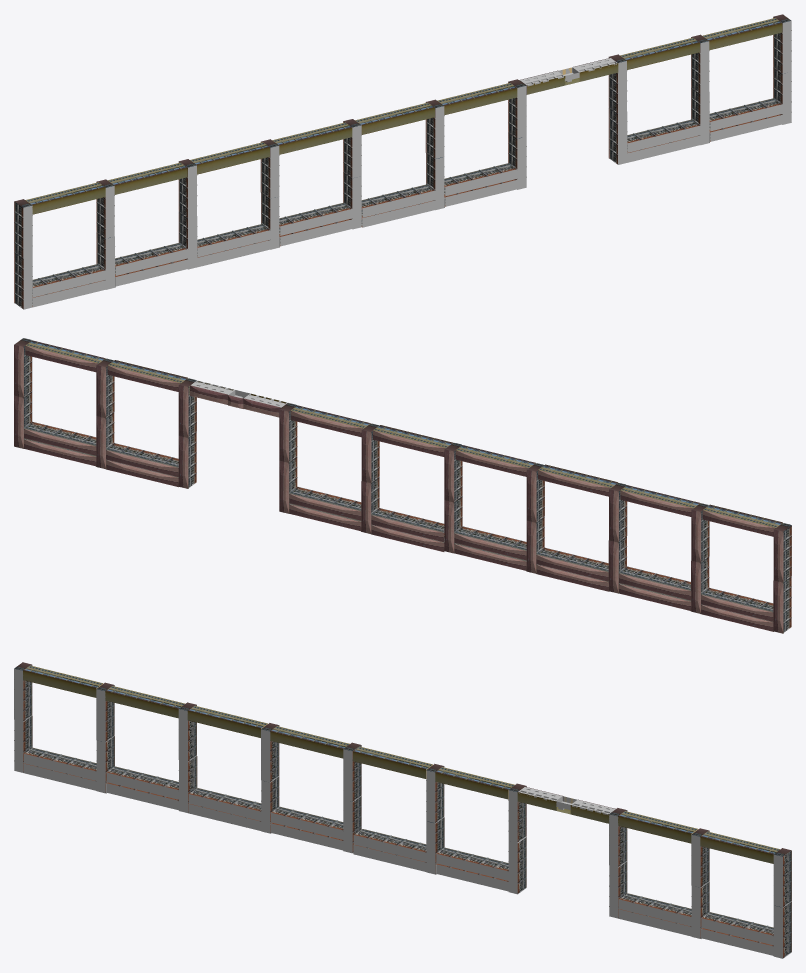
The picture shows the model from 3 angles, top to bottom: view 1: azimuth 30°, elevation 25°; view 2: azimuth 150°, elevation 25°; view 3: azimuth 330°, elevation 25°; orthographic projection.
Visible parts, largest first — view 1: Plane, 1.bina zemin.018, sarı bina zemin.026, 1.bina zemin.014, 1.bina zemin.021, 1.bina zemin.017, 1.bina zemin.020, 1.bina zemin.026, 1.bina zemin.010, 1.bina zemin.011, 1.bina zemin.028, 1.bina zemin.013 (+29 smaller); view 2: çatı sarı bina.016, çatı sarı bina.024, çatı sarı bina.025, çatı sarı bina.017, çatı sarı bina.018, çatı sarı bina.030, çatı sarı bina.031, çatı sarı bina.040, çatı sarı bina.022, çatı sarı bina.023, çatı sarı bina.015, çatı sarı bina.028 (+46 smaller); view 3: Plane, sarı bina zemin.026, 1.bina zemin.011, sarı bina zemin.021, sarı bina zemin.004, 1.bina zemin.010, 1.bina zemin.014, 1.bina zemin.018, 1.bina zemin.025, 1.bina zemin.028, 1.bina zemin.039, 1.bina zemin.013 (+29 smaller).
Part boxes in pixels (x1=…): Plane: x1=520, y1=58, x2=617, y2=86; 1.bina zemin.018: x1=362, y1=200, x2=435, y2=227; sarı bina zemin.026: x1=32, y1=187, x2=105, y2=214; 1.bina zemin.014: x1=710, y1=104, x2=783, y2=131; 1.bina zemin.021: x1=445, y1=169, x2=518, y2=196; 1.bina zemin.017: x1=445, y1=179, x2=518, y2=206; 1.bina zemin.020: x1=362, y1=190, x2=435, y2=217; 1.bina zemin.026: x1=197, y1=240, x2=270, y2=267; 1.bina zemin.010: x1=710, y1=115, x2=783, y2=141; 1.bina zemin.011: x1=627, y1=135, x2=700, y2=162; 1.bina zemin.028: x1=197, y1=230, x2=270, y2=257; 1.bina zemin.013: x1=627, y1=126, x2=700, y2=152; çatı sarı bina.016: x1=371, y1=525, x2=444, y2=551; çatı sarı bina.024: x1=106, y1=450, x2=178, y2=477; çatı sarı bina.025: x1=24, y1=428, x2=96, y2=455; çatı sarı bina.017: x1=371, y1=515, x2=443, y2=542; çatı sarı bina.018: x1=289, y1=493, x2=361, y2=520; çatı sarı bina.030: x1=536, y1=554, x2=608, y2=581; çatı sarı bina.031: x1=454, y1=533, x2=526, y2=560; çatı sarı bina.040: x1=619, y1=573, x2=691, y2=600; çatı sarı bina.022: x1=24, y1=439, x2=96, y2=466; çatı sarı bina.023: x1=106, y1=460, x2=178, y2=487; çatı sarı bina.015: x1=289, y1=504, x2=361, y2=531; çatı sarı bina.028: x1=454, y1=544, x2=526, y2=570; Plane: x1=518, y1=787, x2=615, y2=815; sarı bina zemin.026: x1=23, y1=670, x2=96, y2=697; 1.bina zemin.011: x1=618, y1=909, x2=691, y2=936; sarı bina zemin.021: x1=187, y1=710, x2=260, y2=737; sarı bina zemin.004: x1=618, y1=816, x2=691, y2=842; 1.bina zemin.010: x1=701, y1=929, x2=774, y2=955; 1.bina zemin.014: x1=701, y1=918, x2=774, y2=945; 1.bina zemin.018: x1=353, y1=845, x2=426, y2=871; 1.bina zemin.025: x1=271, y1=823, x2=344, y2=850; 1.bina zemin.028: x1=188, y1=794, x2=261, y2=821; 1.bina zemin.039: x1=106, y1=772, x2=179, y2=799; 1.bina zemin.013: x1=618, y1=899, x2=691, y2=926.
Size of the model in its own units: 25245 by 3263 by 554.
